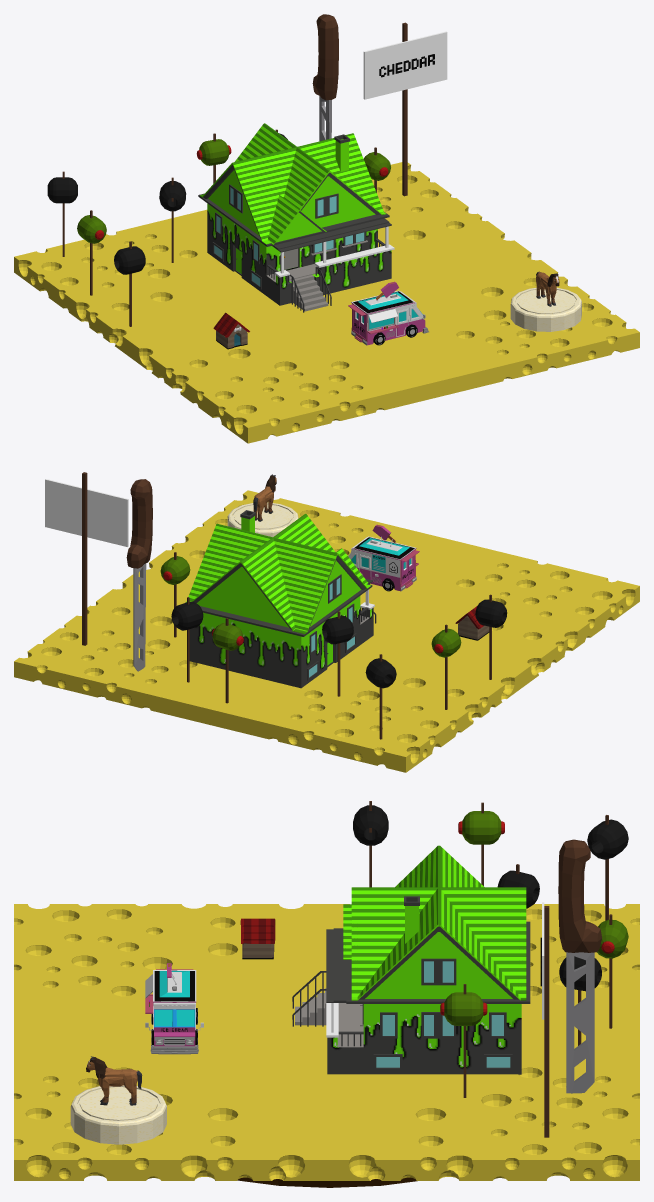
3 renders of one model, top to bottom at view 1: azimuth 30°, elevation 25°; view 2: azimuth 150°, elevation 25°; view 3: azimuth 270°, elevation 25°, orthographic. The views are drawn at different scales.
Parts seen in each view (by area): view 1: Cube.022, Cube.754, Cube.023, VEHICLES_ICE_CREAM_TRUCK, Cylinder.016, Cube.024, Sphere.017, Sphere.016, OBJRANDOM_DOGHOUSE, Sphere.020, Sphere.018, Sphere.022 (+2 smaller); view 2: Cube.022, Cube.754, Cube.023, Cube.024, VEHICLES_ICE_CREAM_TRUCK, Cylinder.016, Sphere.020, Sphere.016, Sphere.022, Sphere.017, Sphere.021, Sphere.018 (+3 smaller); view 3: Cube.022, Cube.754, Cube.024, Cylinder.016, VEHICLES_ICE_CREAM_TRUCK, Cube.023, Sphere.019, Sphere.016, Sphere.018, OBJRANDOM_DOGHOUSE, Sphere.017, ANIMAL_CABALLO (+4 smaller).
Part boxes in pixels (x1,y1,x2,y2): Cube.022: [14, 162, 639, 443]; Cube.754: [198, 123, 394, 312]; Cube.023: [363, 22, 447, 196]; VEHICLES_ICE_CREAM_TRUCK: [348, 281, 428, 345]; Cylinder.016: [510, 287, 581, 331]; Cube.024: [312, 14, 338, 141]; Sphere.017: [114, 241, 145, 326]; Sphere.016: [47, 171, 77, 256]; OBJRANDOM_DOGHOUSE: [213, 312, 249, 349]; Sphere.020: [159, 177, 186, 262]; Sphere.018: [77, 210, 106, 295]; Sphere.022: [196, 133, 231, 183]; Cube.022: [14, 490, 639, 772]; Cube.754: [185, 510, 376, 688]; Cube.023: [45, 472, 128, 645]; Cube.024: [126, 479, 152, 671]; VEHICLES_ICE_CREAM_TRUCK: [348, 524, 419, 591]; Cylinder.016: [227, 502, 298, 537]; Sphere.020: [322, 611, 353, 696]; Sphere.016: [365, 654, 396, 739]; Sphere.022: [212, 618, 243, 703]; Sphere.017: [475, 594, 507, 679]; Sphere.021: [171, 597, 203, 682]; Sphere.018: [431, 624, 461, 709]; Cube.022: [14, 904, 639, 1180]; Cube.754: [292, 845, 530, 1074]; Cube.024: [558, 839, 601, 1093]; Cylinder.016: [70, 1085, 166, 1144]; VEHICLES_ICE_CREAM_TRUCK: [145, 963, 203, 1054]; Cube.023: [540, 902, 549, 1137]; Sphere.019: [440, 984, 487, 1097]; Sphere.016: [587, 815, 628, 920]; Sphere.018: [458, 802, 504, 885]; OBJRANDOM_DOGHOUSE: [240, 918, 275, 959]; Sphere.017: [353, 801, 388, 887]; ANIMAL_CABALLO: [86, 1056, 142, 1105].
Size of the model in its own units: 3917 by 2073 by 4000.
Materials: 50 (4 with a texture image).
